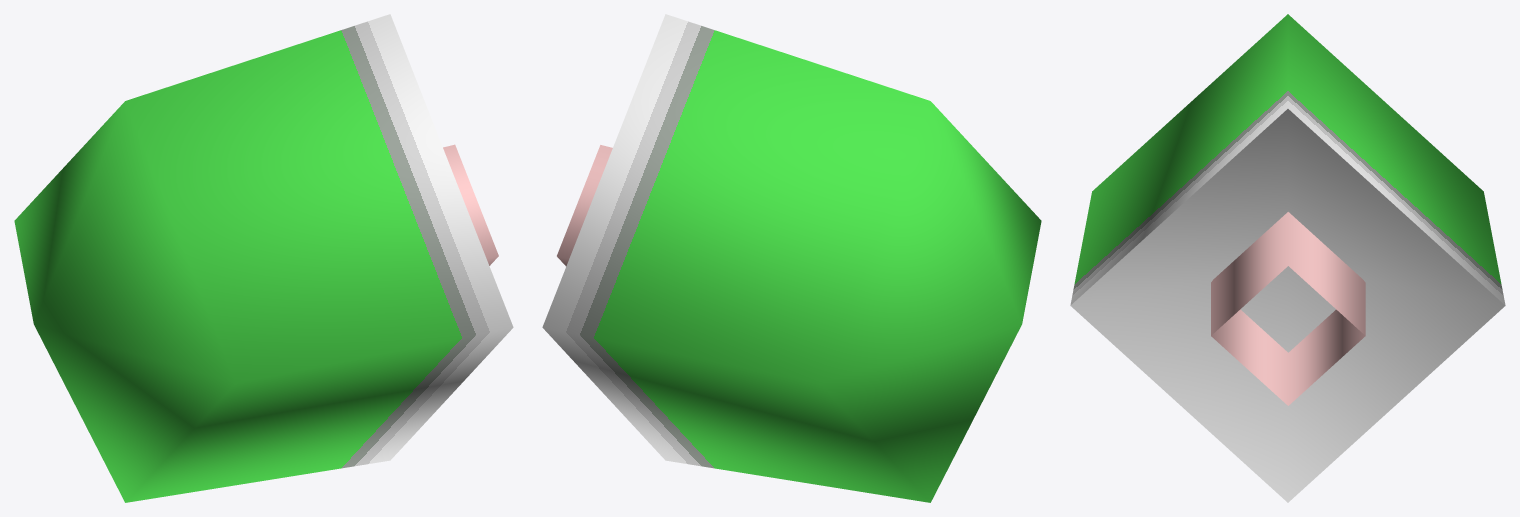
File: Humerus.obj
The picture shows the model from 3 angles, left to right: view 1: azimuth 30°, elevation 25°; view 2: azimuth 150°, elevation 25°; view 3: azimuth 270°, elevation 25°; orthographic projection. The views are drawn at different scales.
Size of the model in its own units: 1.48 by 1.49 by 1.49.
2 materials, 2 textured.
